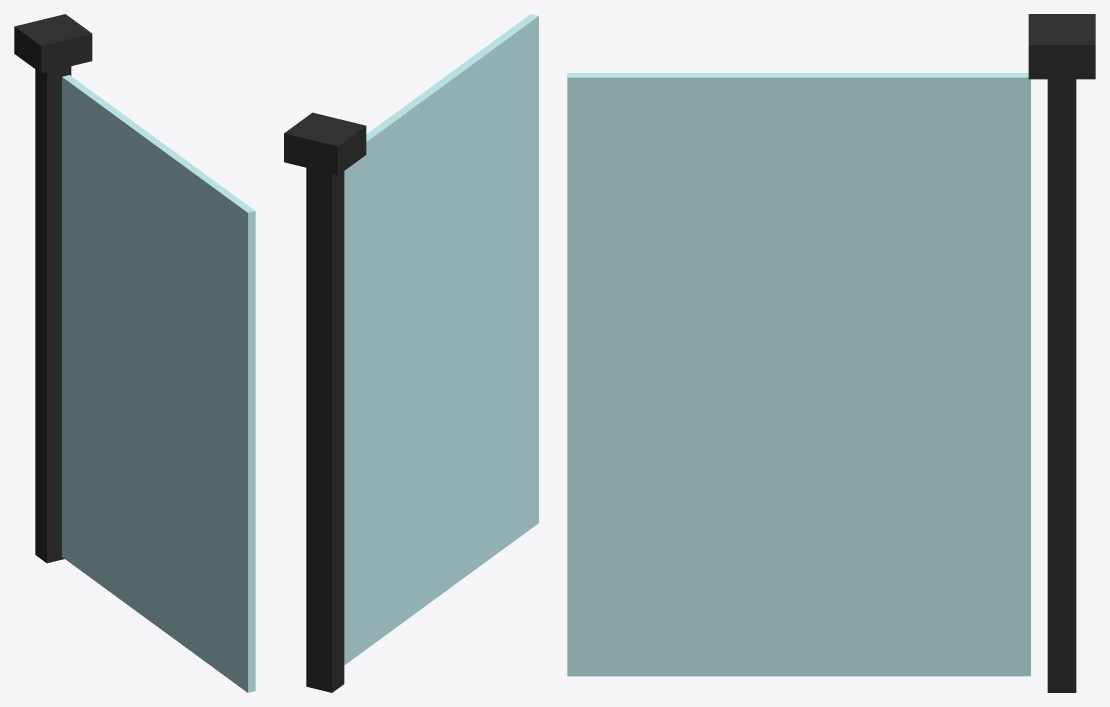
Rendered from Balcony.012.fbx.
3 views of the same model, side by side, from view 1: azimuth 30°, elevation 25°; view 2: azimuth 150°, elevation 25°; view 3: azimuth 270°, elevation 25° (orthographic). The views are drawn at different scales.
Parts seen in each view (by area): view 1: Balcony.012; view 2: Balcony.012; view 3: Balcony.012.
Part boxes in pixels (x1,y1,x2,y2): Balcony.012: (14, 14, 255, 692); Balcony.012: (284, 14, 538, 692); Balcony.012: (567, 14, 1095, 692).
Bounding box in the file's own units: 44.44 × 437 × 319.
